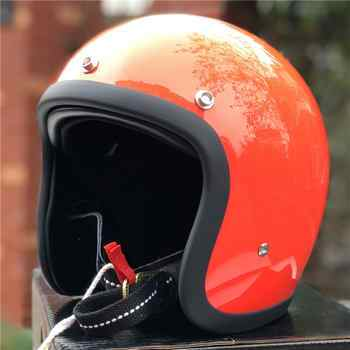with_helmet: (41, 12, 330, 324)
